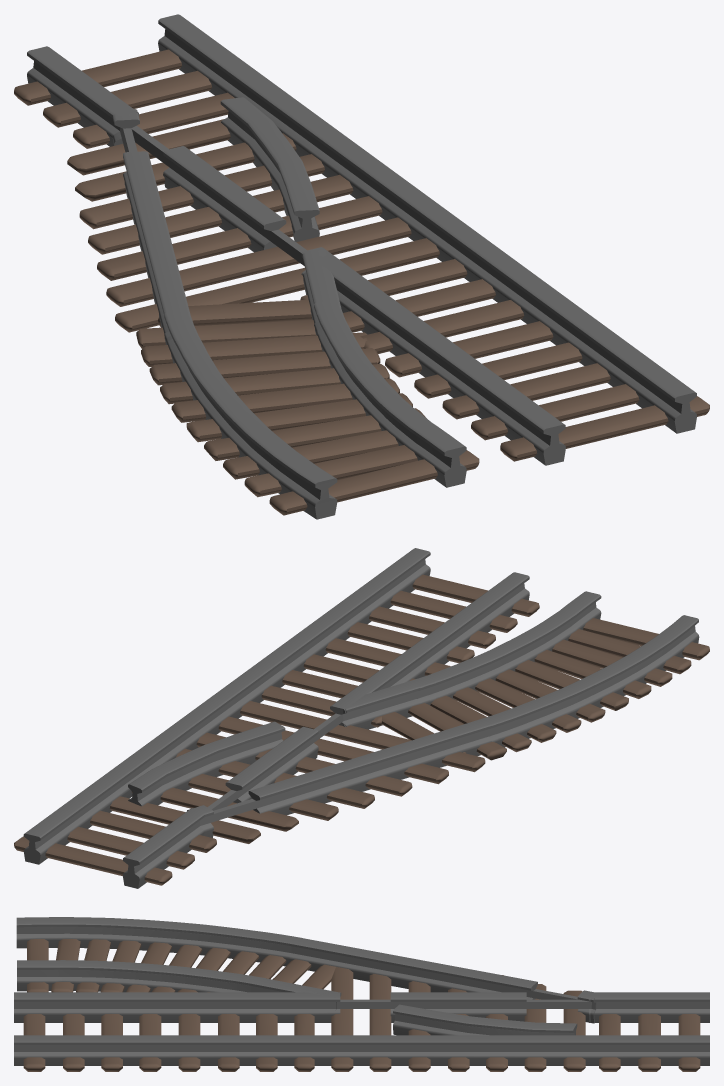
Rendered from rail_section.glb.
3 renders of one model, top to bottom at view 1: azimuth 30°, elevation 25°; view 2: azimuth 150°, elevation 25°; view 3: azimuth 270°, elevation 25°, orthographic. The views are drawn at different scales.
Parts seen in each view (by area): view 1: Object_3; view 2: Object_3; view 3: Object_3.
Part boxes in pixels (box(x1,y1,x2,y2)): Object_3: box(14, 14, 709, 519); Object_3: box(14, 548, 709, 888); Object_3: box(14, 917, 709, 1071).
Size of the model in its own units: 2.21 by 0.1816 by 4.6.
